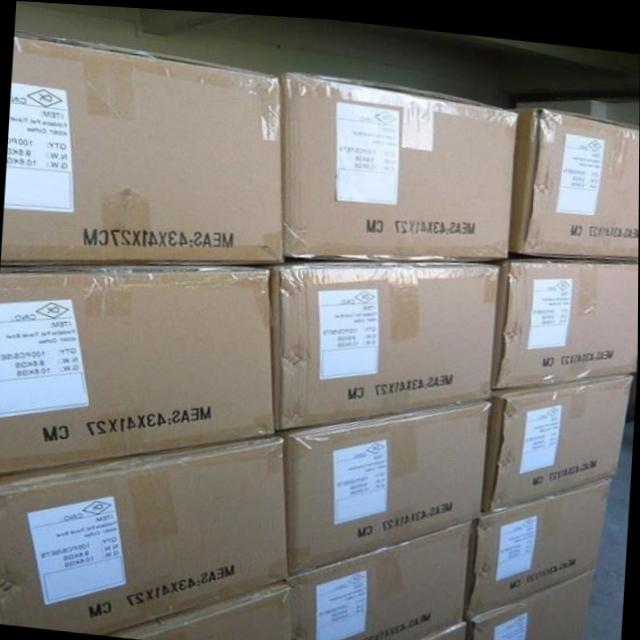box: (2, 33, 285, 265), (0, 428, 291, 632), (0, 259, 275, 474), (283, 68, 517, 259), (270, 251, 499, 428), (275, 394, 491, 574), (290, 512, 478, 640), (479, 366, 634, 512), (465, 471, 614, 615), (491, 249, 639, 385), (508, 100, 639, 251), (100, 575, 293, 640), (465, 563, 595, 640), (406, 615, 466, 640)
